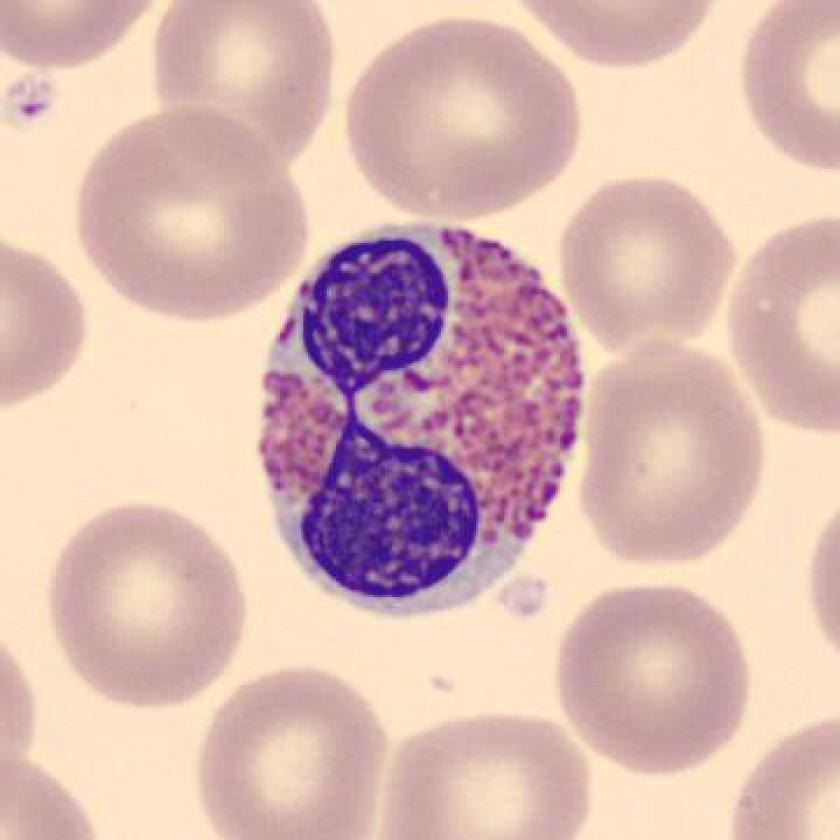eosinophil: (246, 207, 596, 628)
